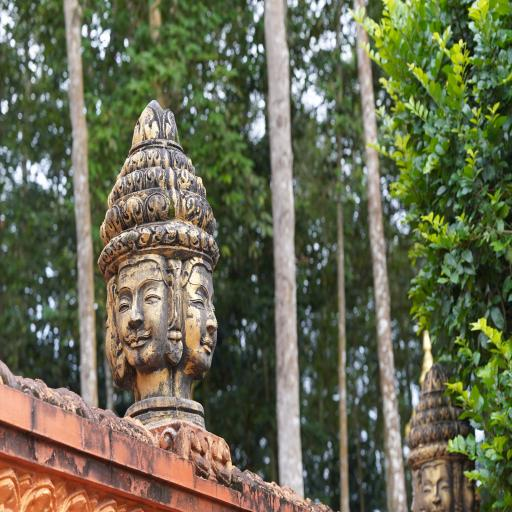than: (83, 101, 247, 445), (406, 361, 490, 512), (114, 256, 171, 370), (178, 252, 224, 374), (102, 276, 126, 381), (415, 457, 458, 512), (459, 454, 486, 512)
